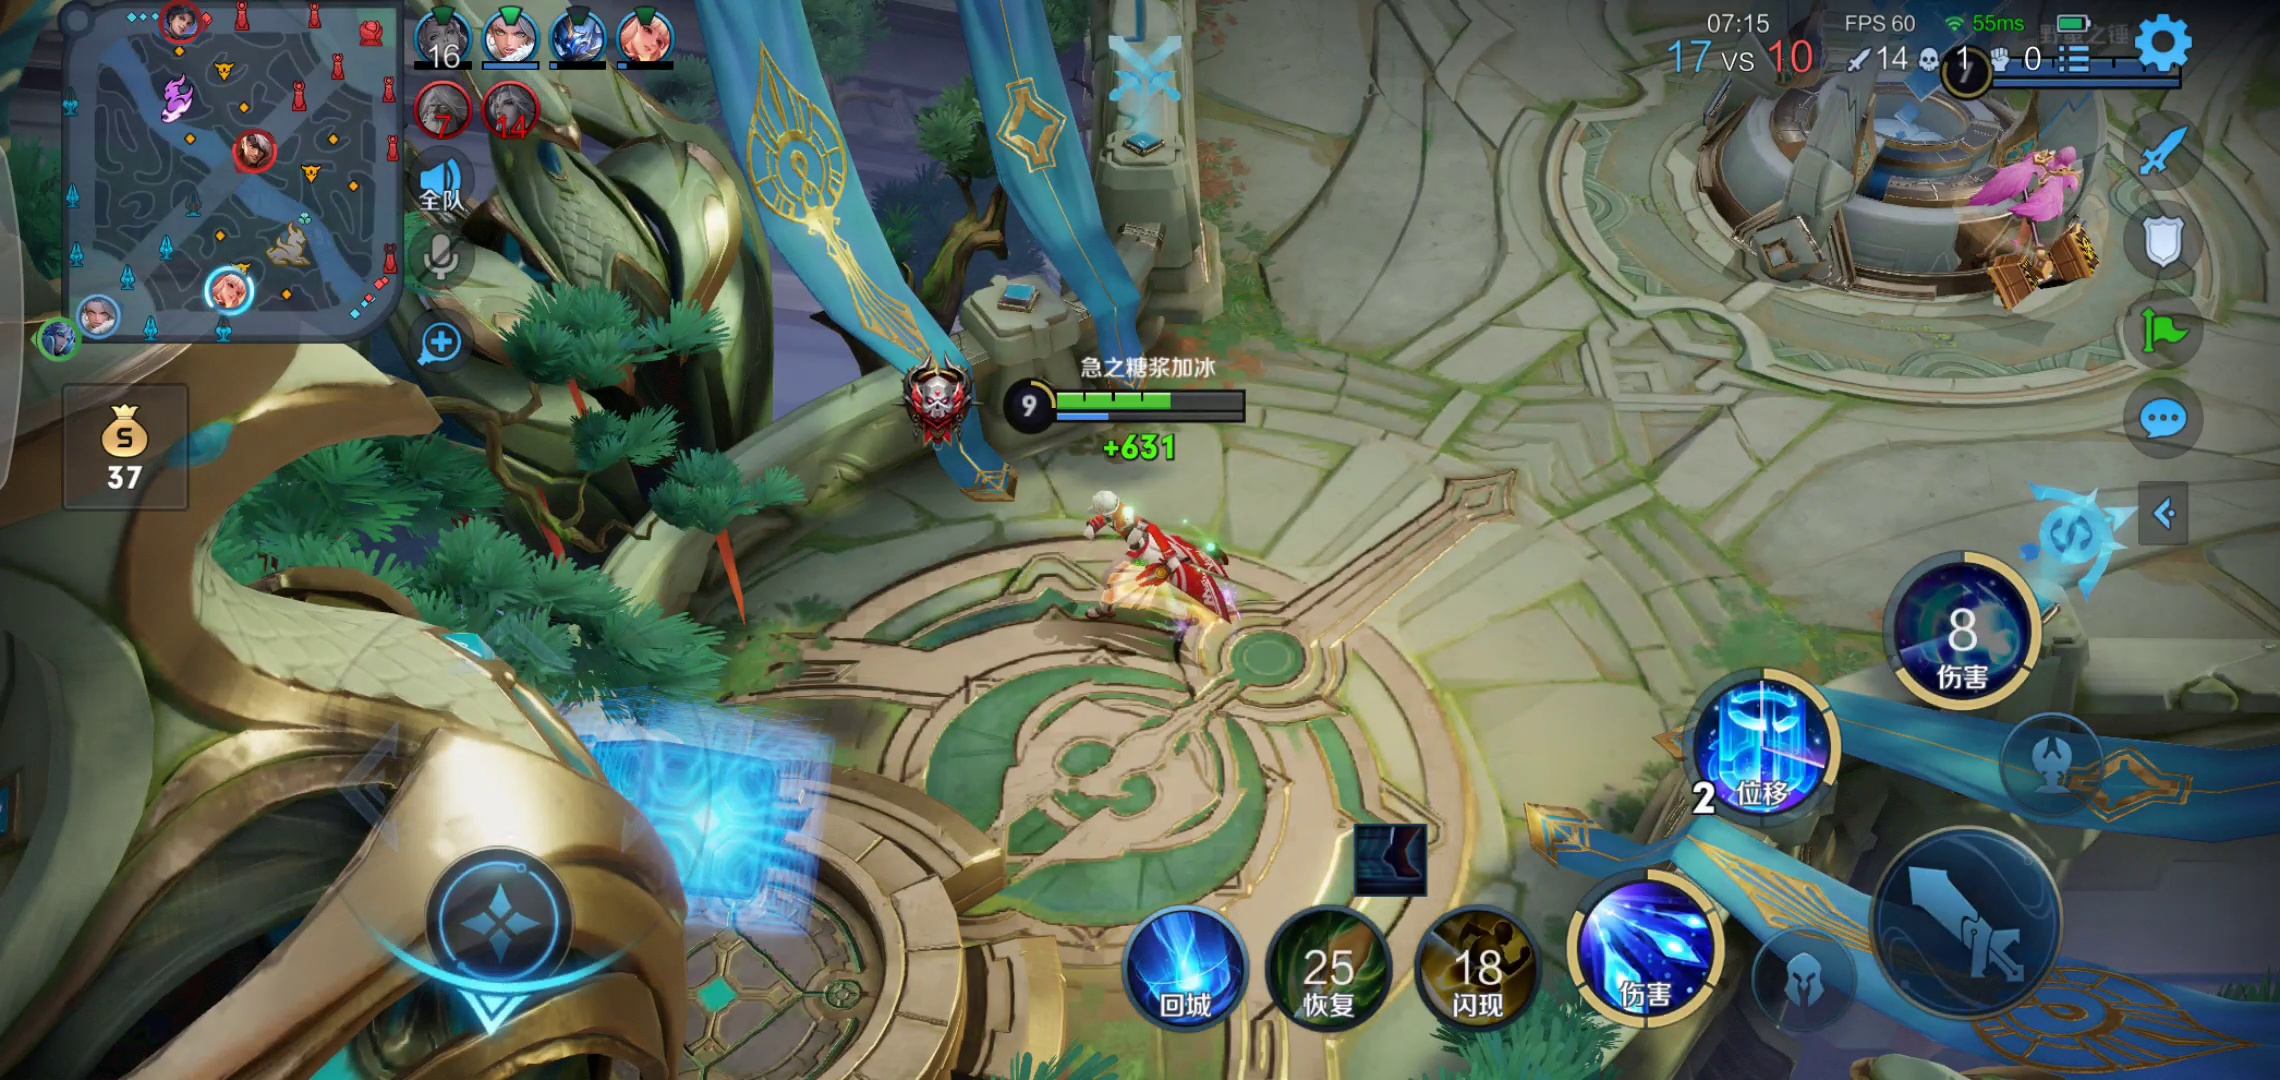crystal: (1701, 4, 2143, 301)
hero: (1075, 477, 1280, 653), (1989, 145, 2071, 307)
